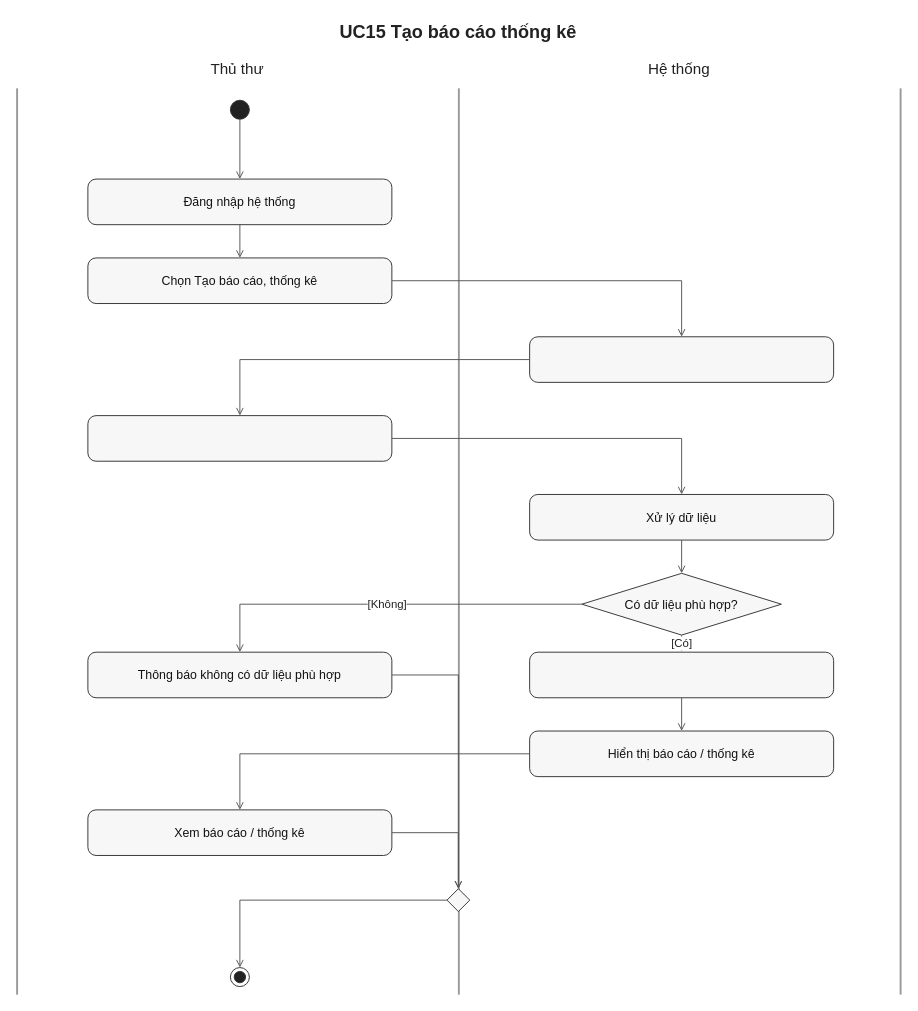
The diagram is 918 pixels wide and 1011 high, and some of its shapes have lost their labels. The shapes that lost their labels are listed below. From the top down, each one's box as (x1, y1, x2, y2) in pixels, then its label:
(529, 336, 834, 382): Hiển thị chức năng báo cáo, thống kê
(87, 415, 392, 461): Chọn loại báo cáo hoặc thống kê
(529, 651, 834, 698): Tạo báo cáo / thống kê
